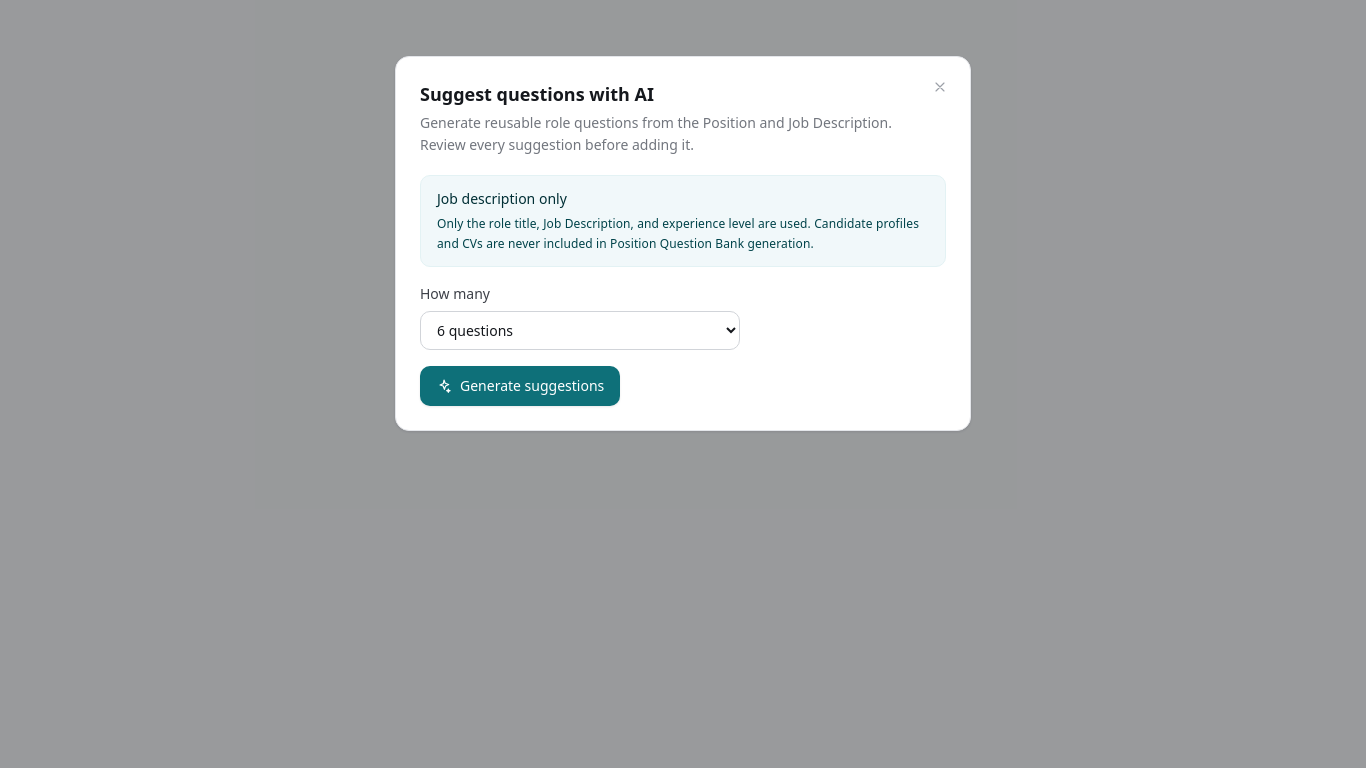
SuggestQuestionsModal › surfaces a generation failure
Click the button "Generate suggestions": x=520, y=386 [420,366,620,406]
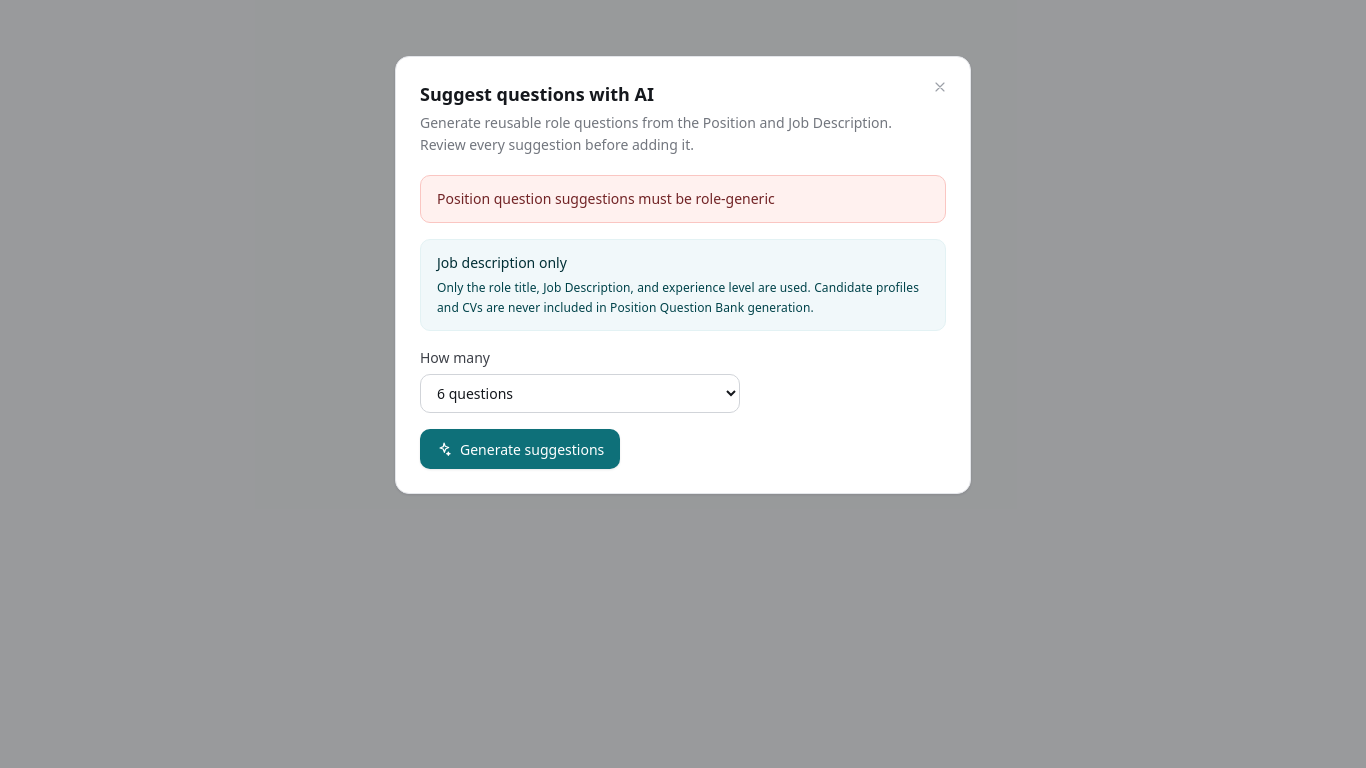
Now the message shows "role-generic", box [437,189,775,208]
